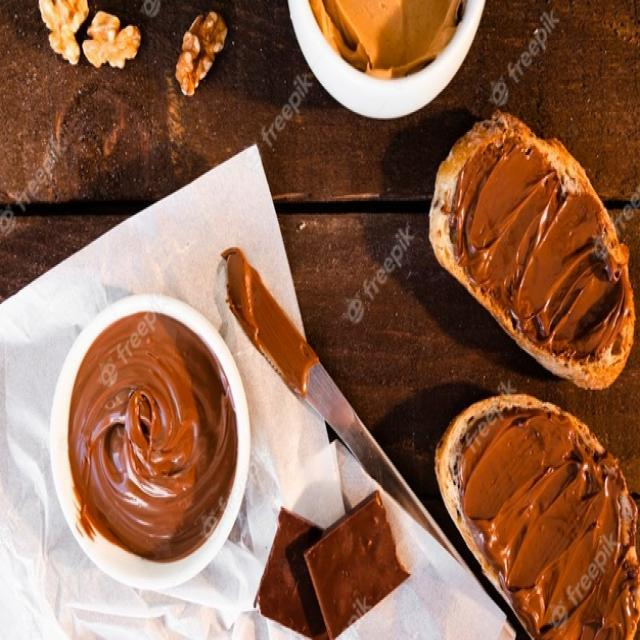Spread: (473, 414, 627, 640), (451, 149, 613, 350), (94, 364, 206, 528)
